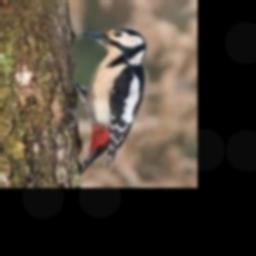Woodpecker: (60, 27, 145, 173)
